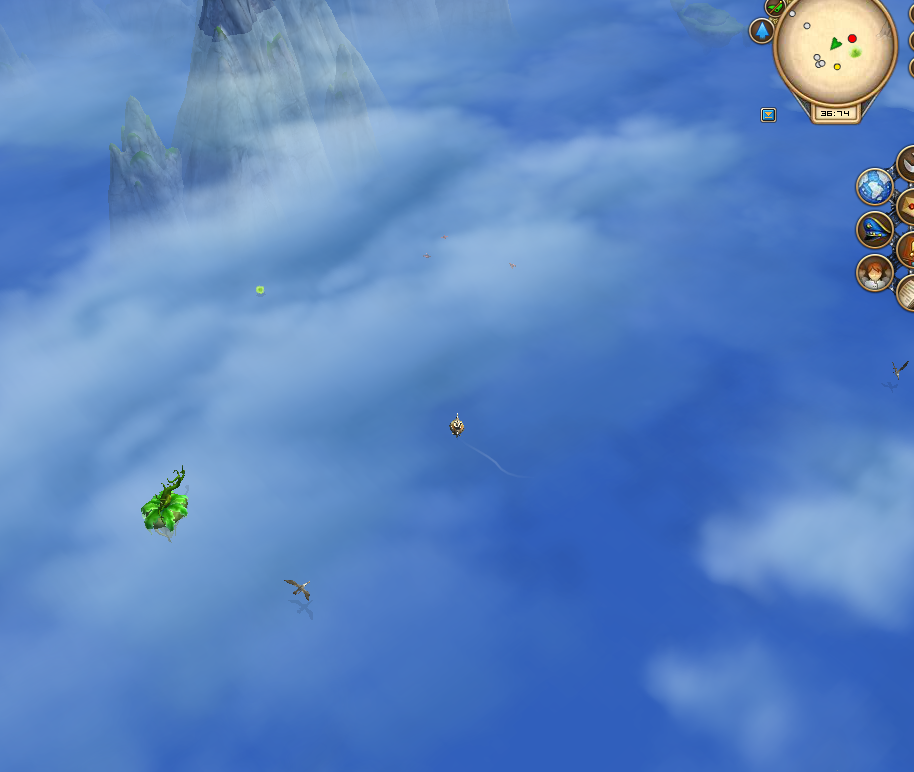dandelion-empty: (133, 467, 196, 542)
fluff: (252, 280, 267, 296)
